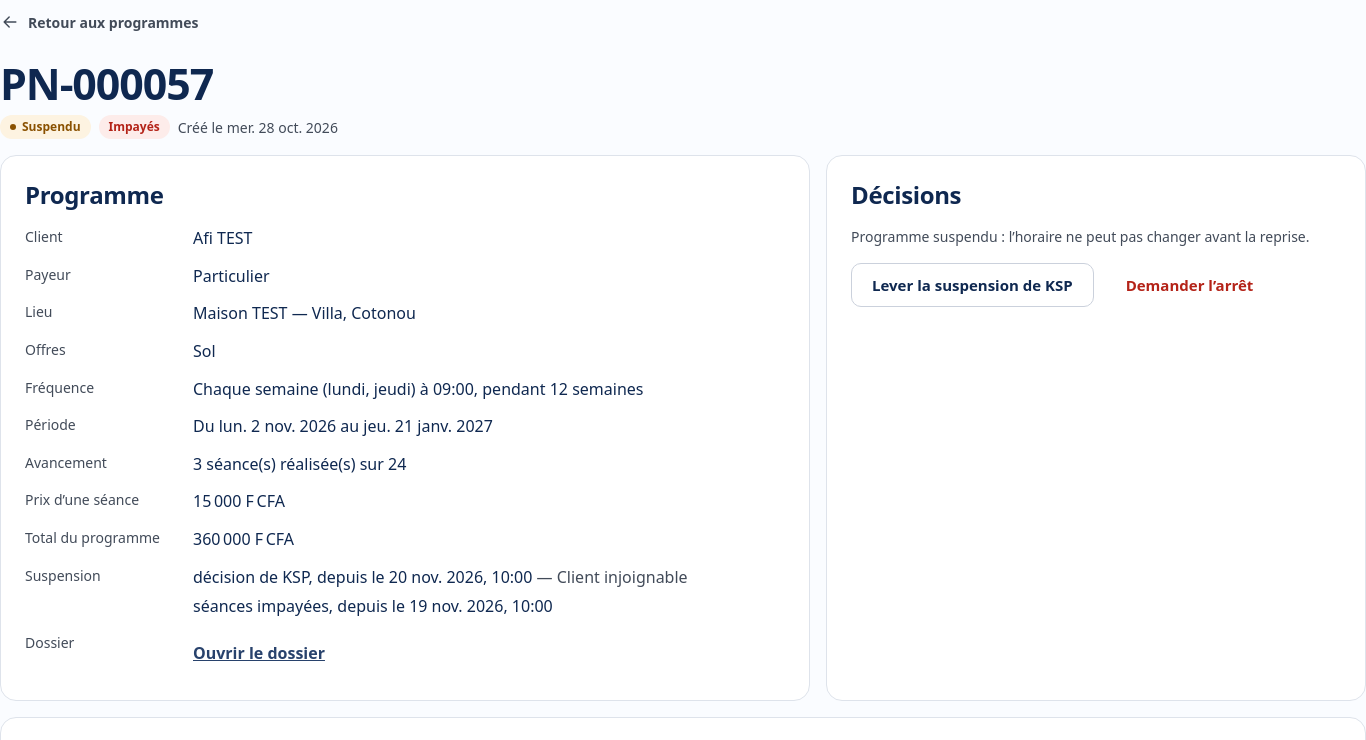
Test: programme : avenant et reprise › lever la suspension de KSP : séances à rattraper proposées
Expected: the text "Programme suspendu : l’horaire ne peut pas changer" is shown, [851, 227, 1310, 246]
What coordinates should you click on to do the following:
click the button "Lever la suspension de KSP"
I would click on:
 (972, 285)
Its box is [851, 263, 1094, 307].
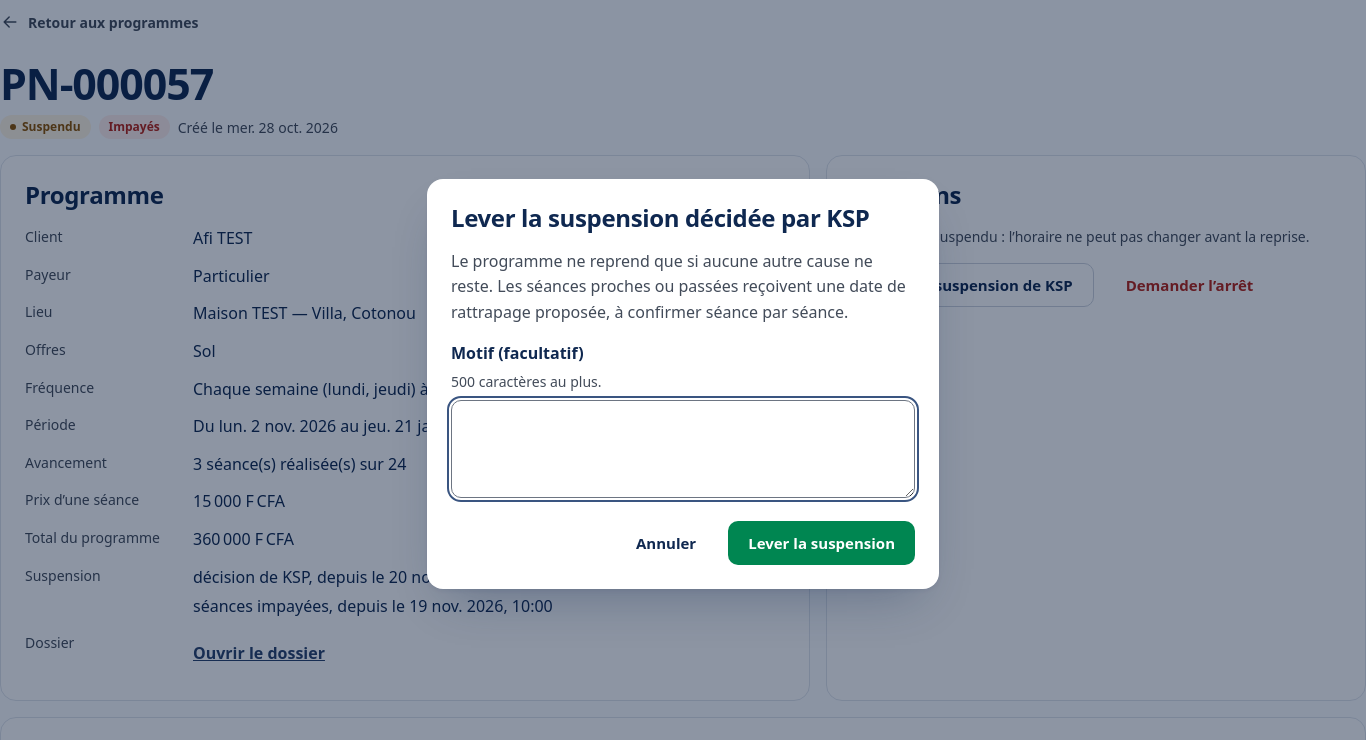
What coordinates should you click on to do the following:
click the button "Lever la suspension"
I would click on:
 (822, 544)
Its box is [728, 522, 915, 566].
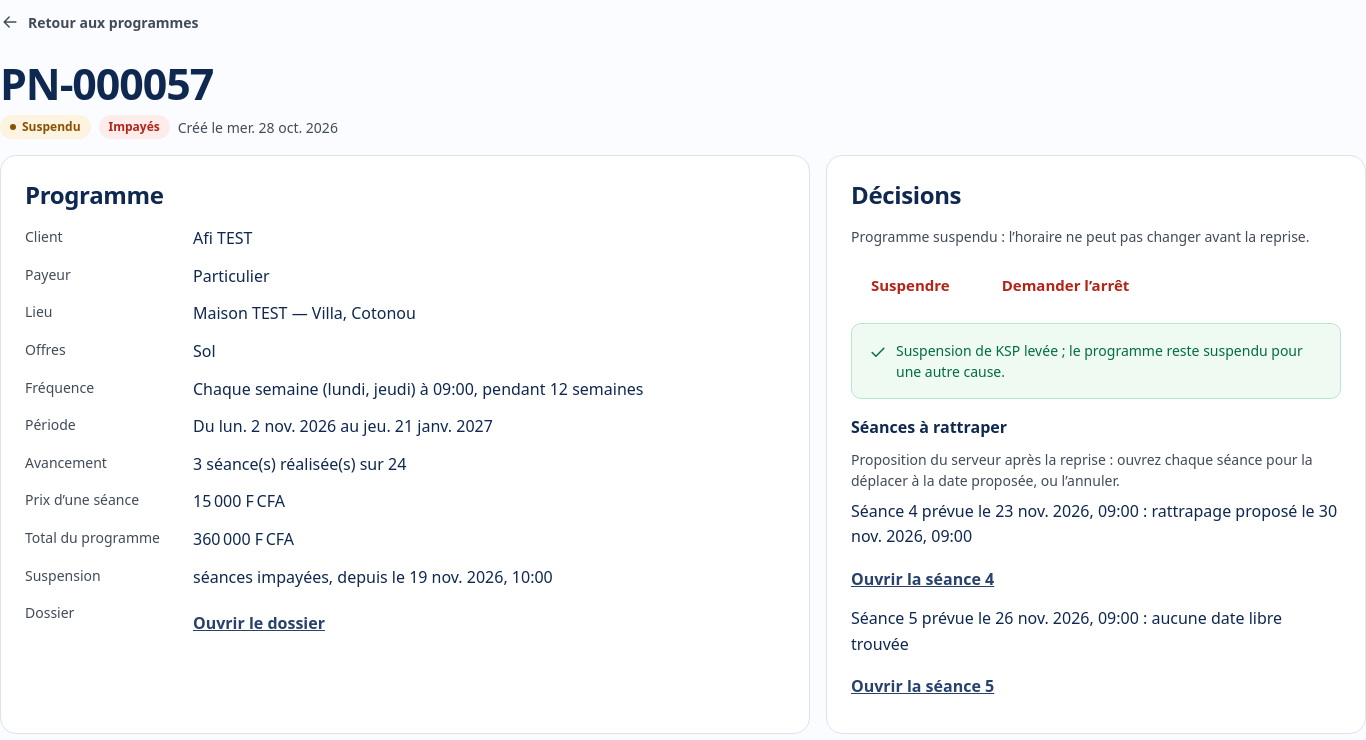
Now the text "le programme reste suspendu pour une autre cause" is shown, box [896, 341, 1303, 381]
Now the button "Lever la suspension de KSP" is gone
Now the button "Suspendre" is shown, box [851, 263, 970, 307]
